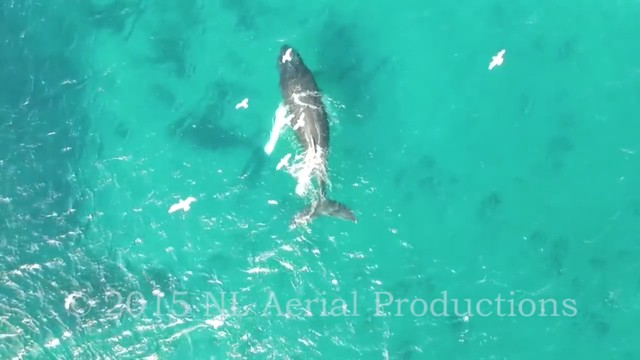whale: (254, 37, 365, 231)
